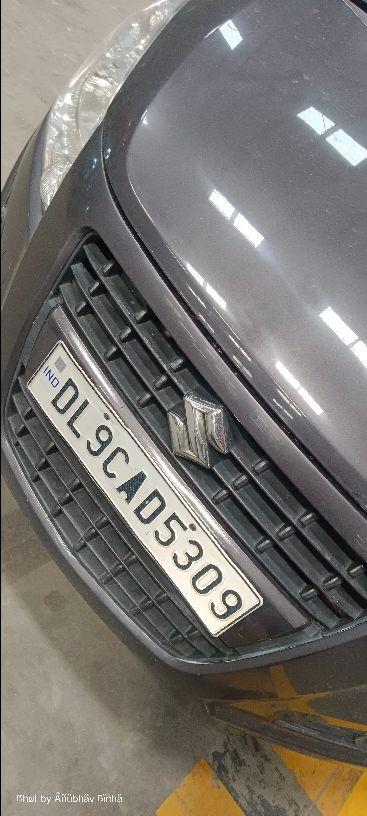license_plate: (1, 0, 365, 680), (23, 336, 264, 639)
